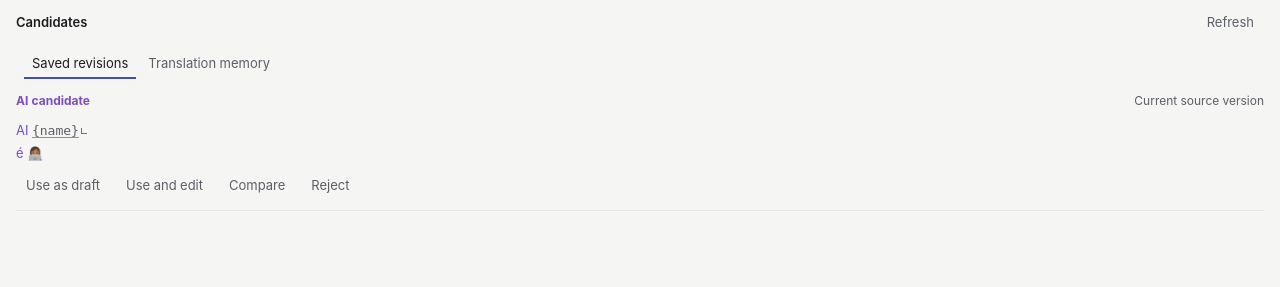
Test: distinguishes an earlier donor approval from current approval without granting either to the target
The width and height of the screenshot is (1280, 287).
Press the mouse on the tab "Translation memory" at {"x": 209, "y": 63}, box [140,47,278,79]
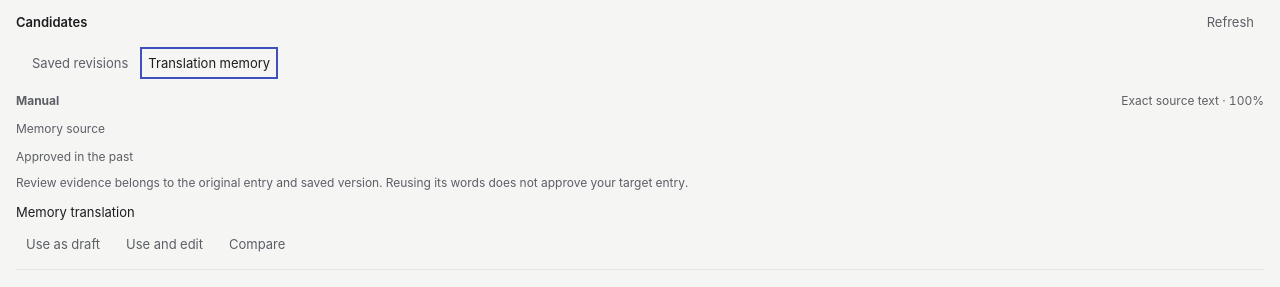
Now the text "Approved in the past" is shown, box [16,149,133,164]
Now the text "Review evidence belongs to the original entry and saved version. Reusing its words does not approve your target entry." is shown, box [16,175,688,190]
